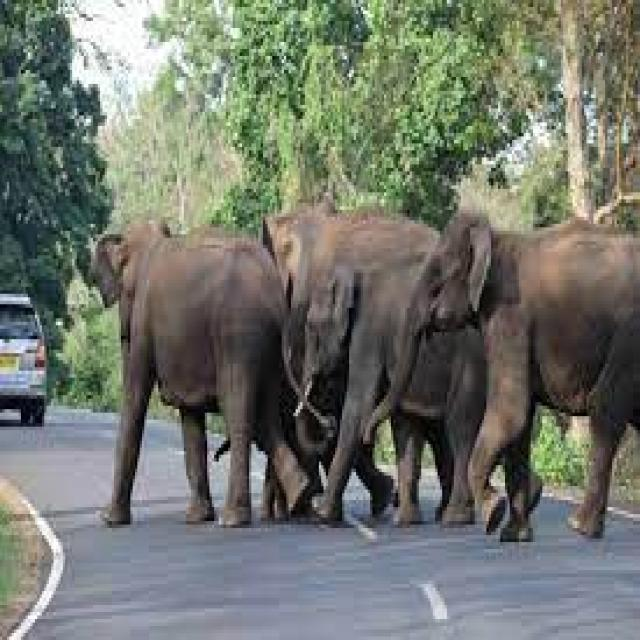Elephant: (391, 190, 640, 557), (85, 207, 279, 541), (296, 198, 469, 530)
